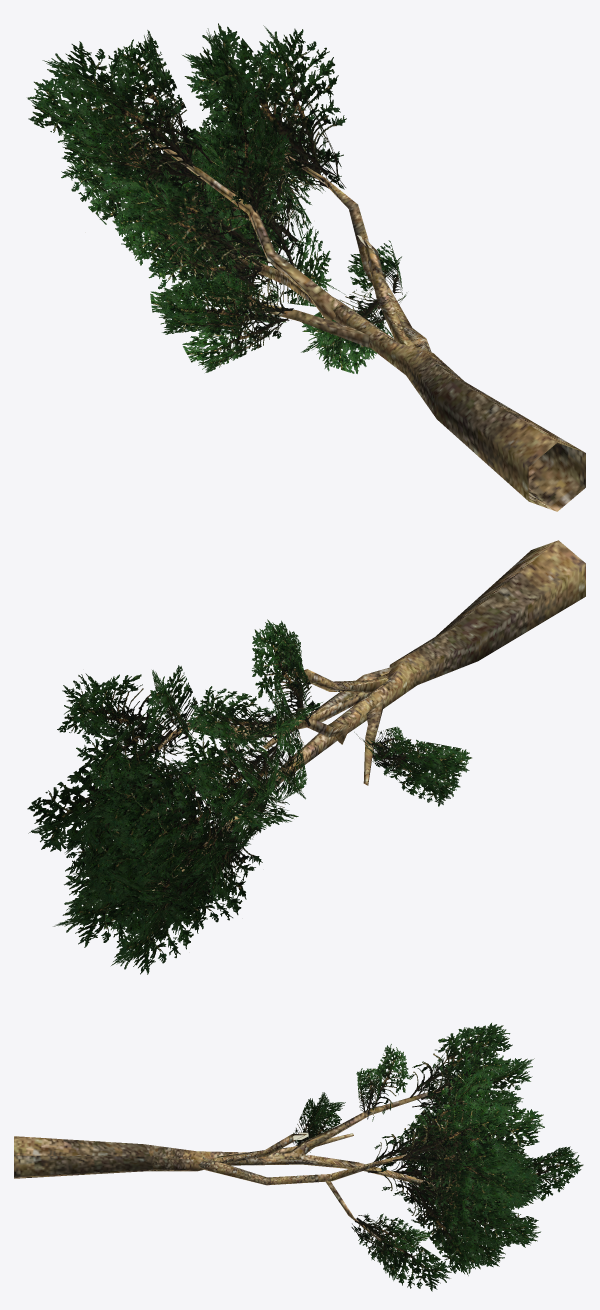
File: aleppo_pine_4.glb
3 views of the same model, one above another, from view 1: azimuth 30°, elevation 25°; view 2: azimuth 150°, elevation 25°; view 3: azimuth 270°, elevation 25° (orthographic). The views are drawn at different scales.
Bounding box in the file's own units: 11.67 × 11.63 × 27.91.
Materials: 1 (1 with a texture image).
